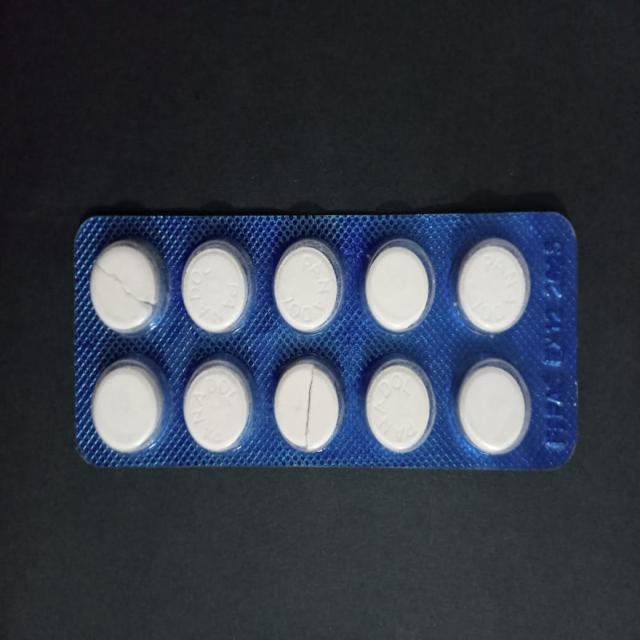defect: (88, 238, 166, 338), (272, 355, 347, 455)
